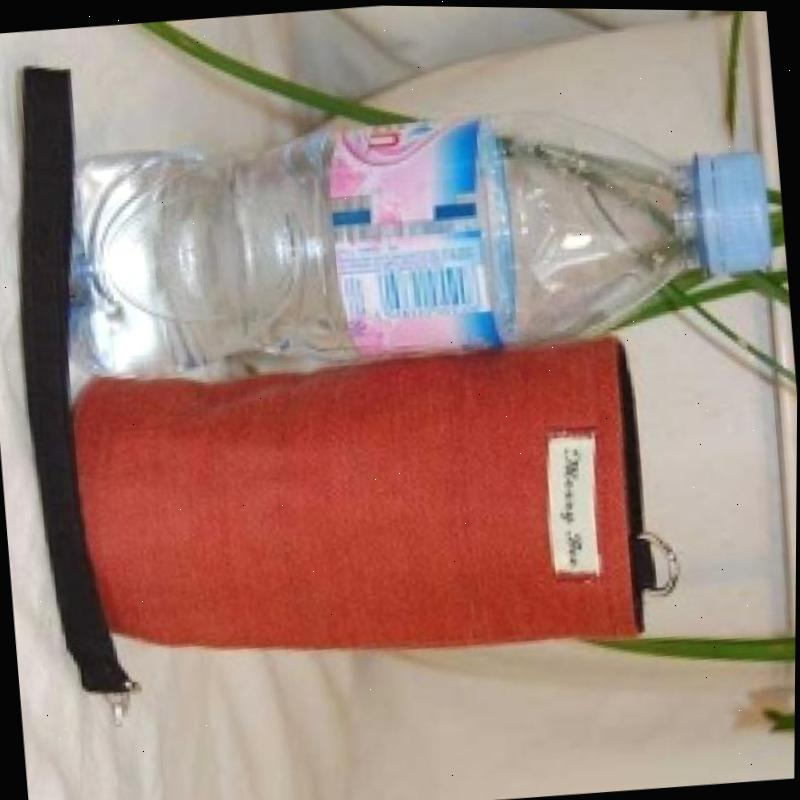botella: (49, 77, 780, 401)
